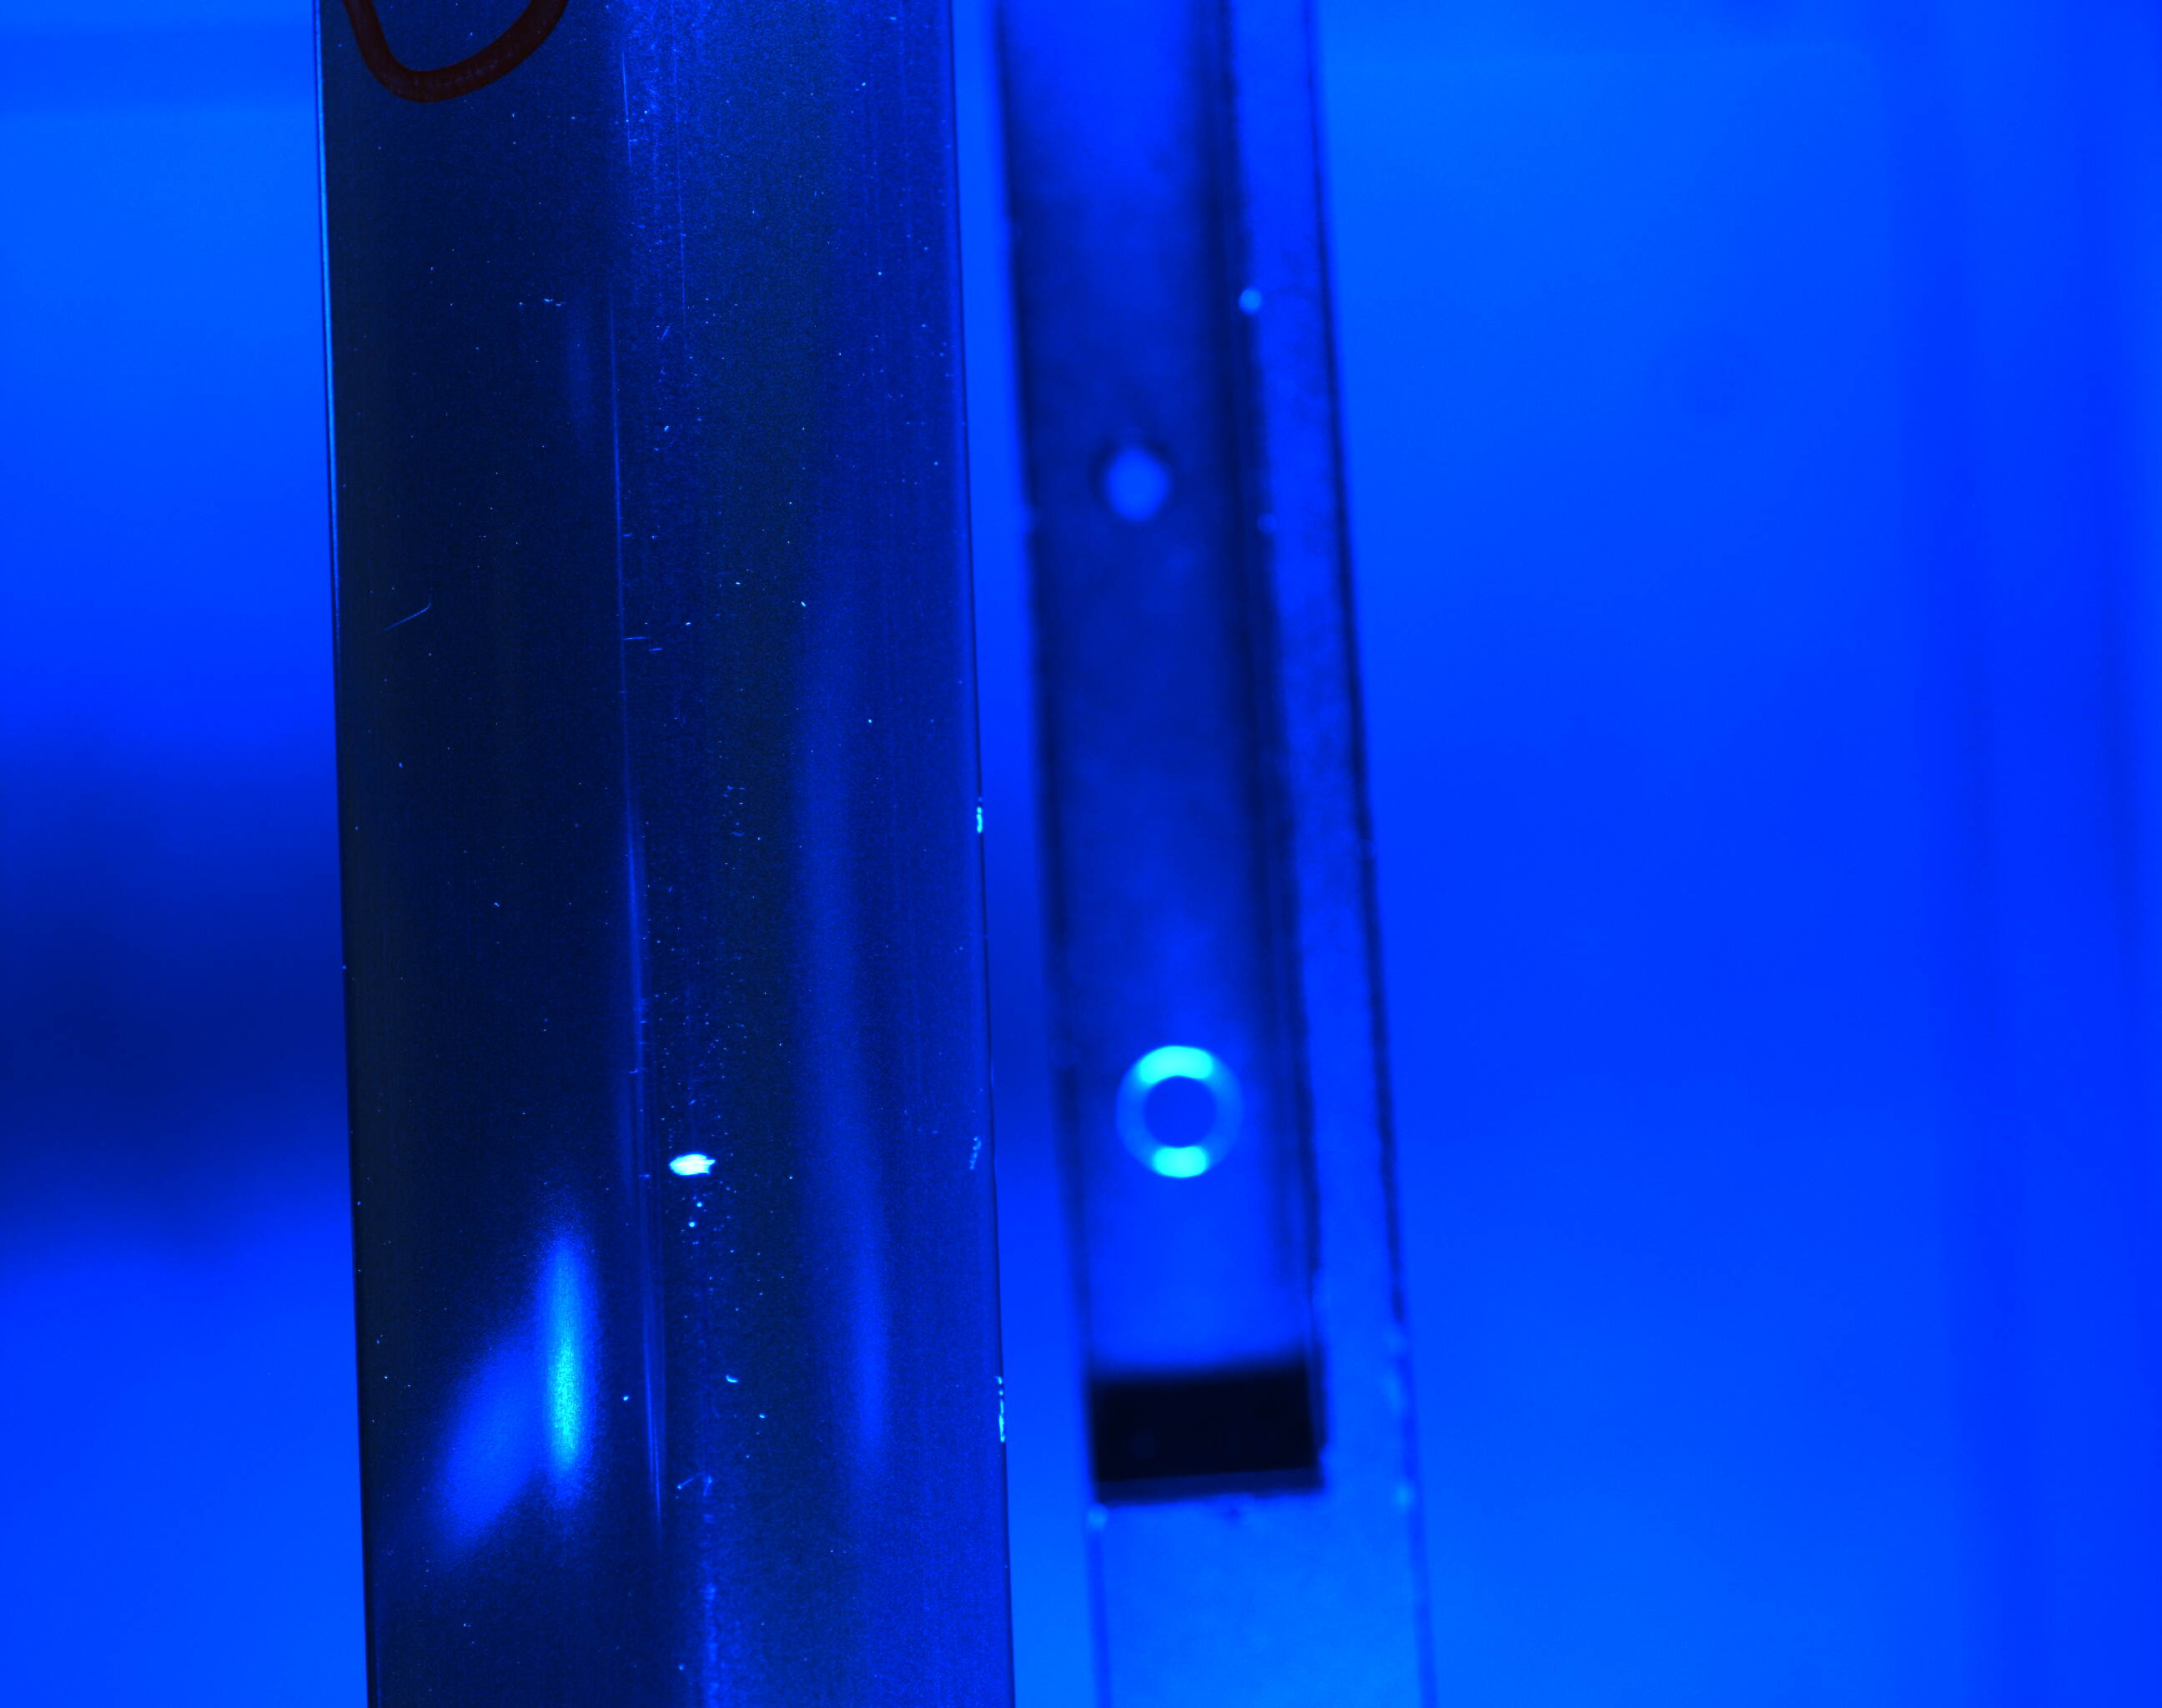NG: (648, 1129, 728, 1204), (948, 765, 997, 879), (377, 586, 447, 653), (979, 1352, 1014, 1469), (955, 1125, 986, 1194)
